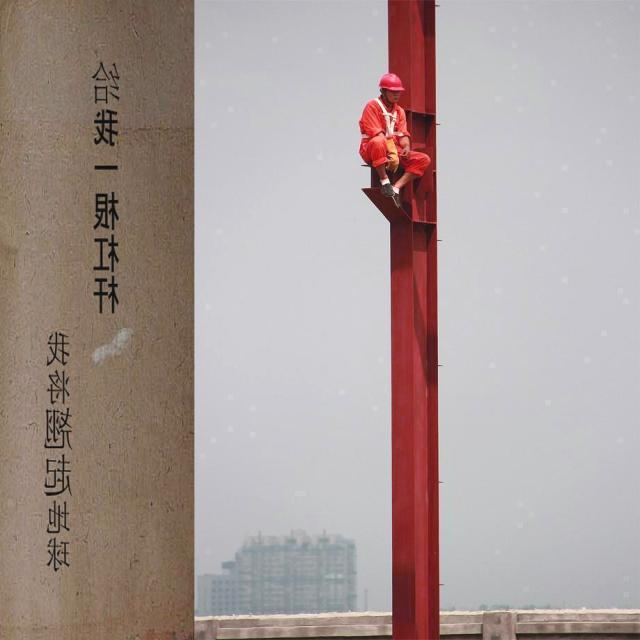hand_glove: (386, 141, 402, 174)
head_helmet: (375, 68, 405, 90)
person: (356, 66, 430, 199)
